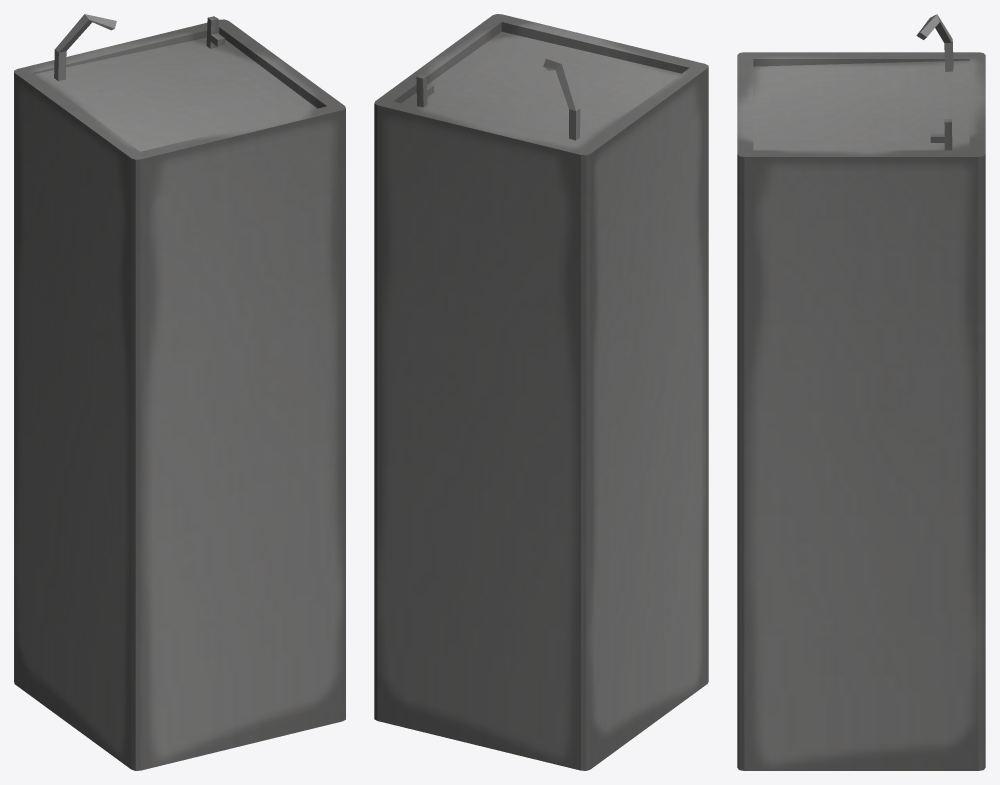
The model's file is Bbedouro.fbx.
3 views of the same model, side by side, from view 1: azimuth 30°, elevation 25°; view 2: azimuth 150°, elevation 25°; view 3: azimuth 270°, elevation 25° (orthographic).
Parts seen in each view (by area): view 1: Cube; view 2: Cube; view 3: Cube.
Part boxes in pixels (x1,y1,x2,y2): Cube: [14, 14, 345, 770]; Cube: [374, 14, 708, 770]; Cube: [737, 14, 985, 770].
Bounding box in the file's own units: 50 × 150 × 50.
1 material, 1 textured.
